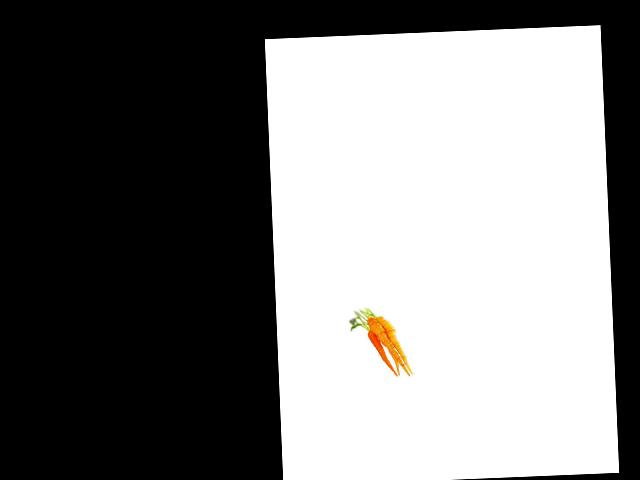carrot: (375, 311, 414, 376)
